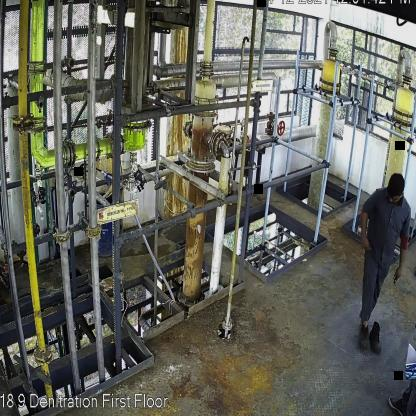shoes: (370, 322, 383, 356), (357, 325, 370, 354)
